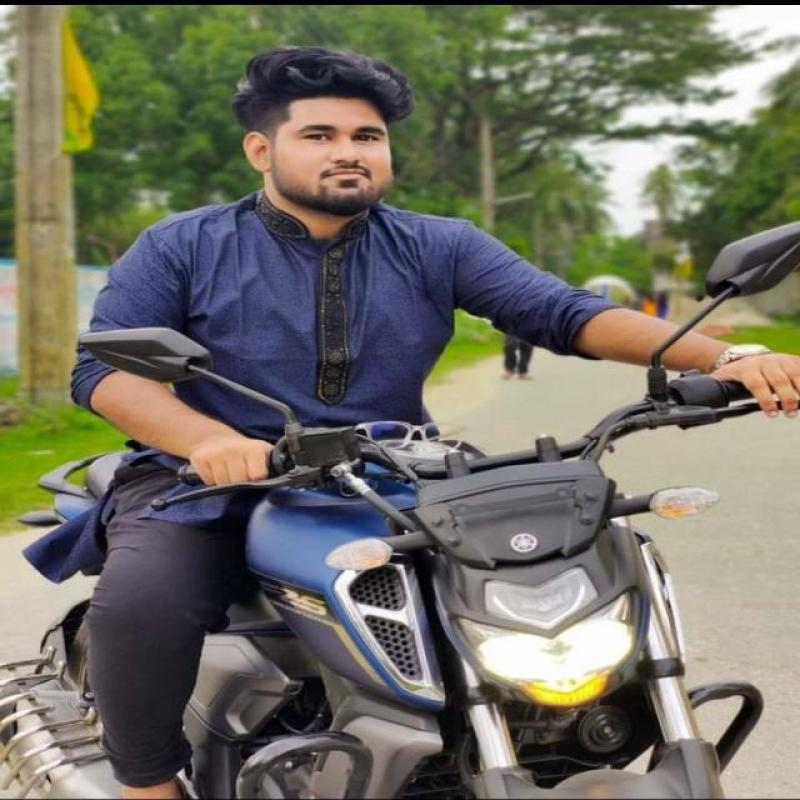nohelmet: (197, 37, 447, 225)
